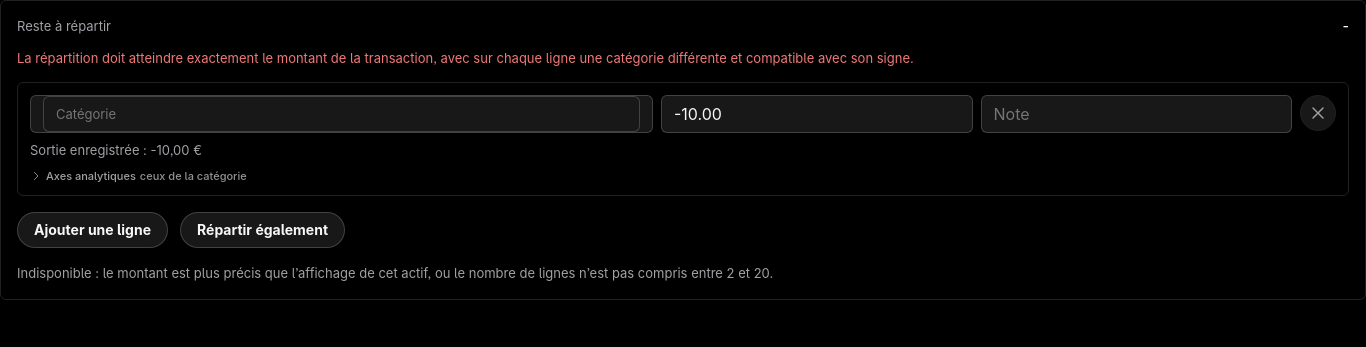
Test: SplitEditor › refuses a row whose category type contradicts the transaction sign
Focus the dropdown named "Catégorie de la ligne 1" at [342, 114], box [43, 96, 640, 132]
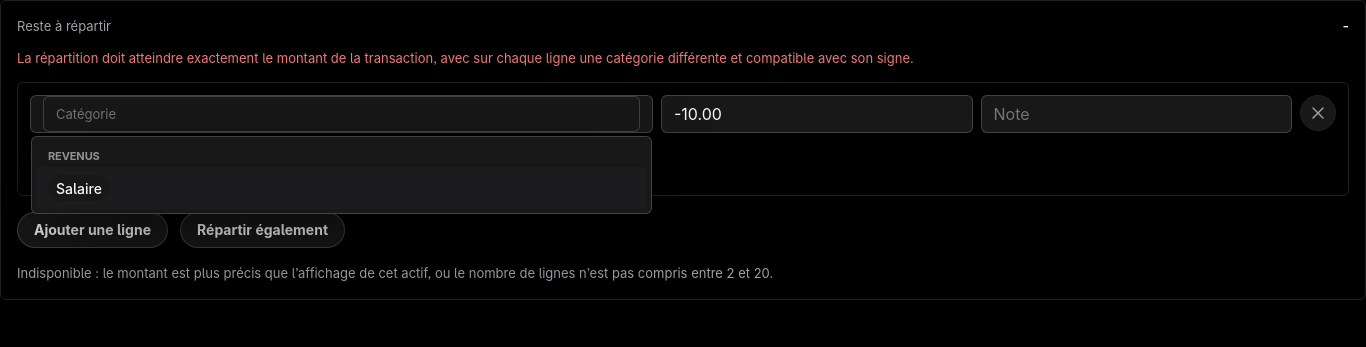
Press the mouse on the option "Salaire" at [79, 188], box [36, 167, 647, 209]
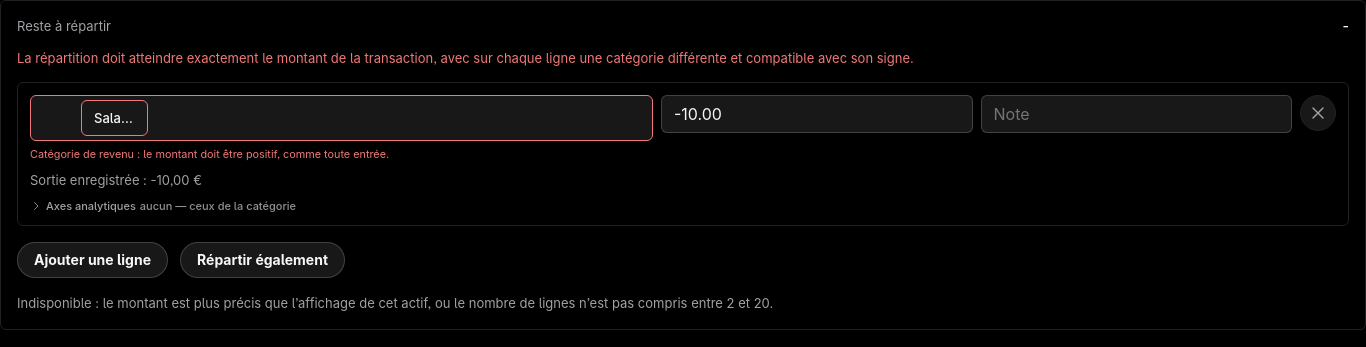
Expected: the 2nd message shows "La répartition doit atteindre exactement le montant de la transaction", [17, 50, 914, 66]
Expected: the text "Catégorie de revenu : le montant doit être positif, comme toute entrée." is shown, [30, 148, 389, 161]
